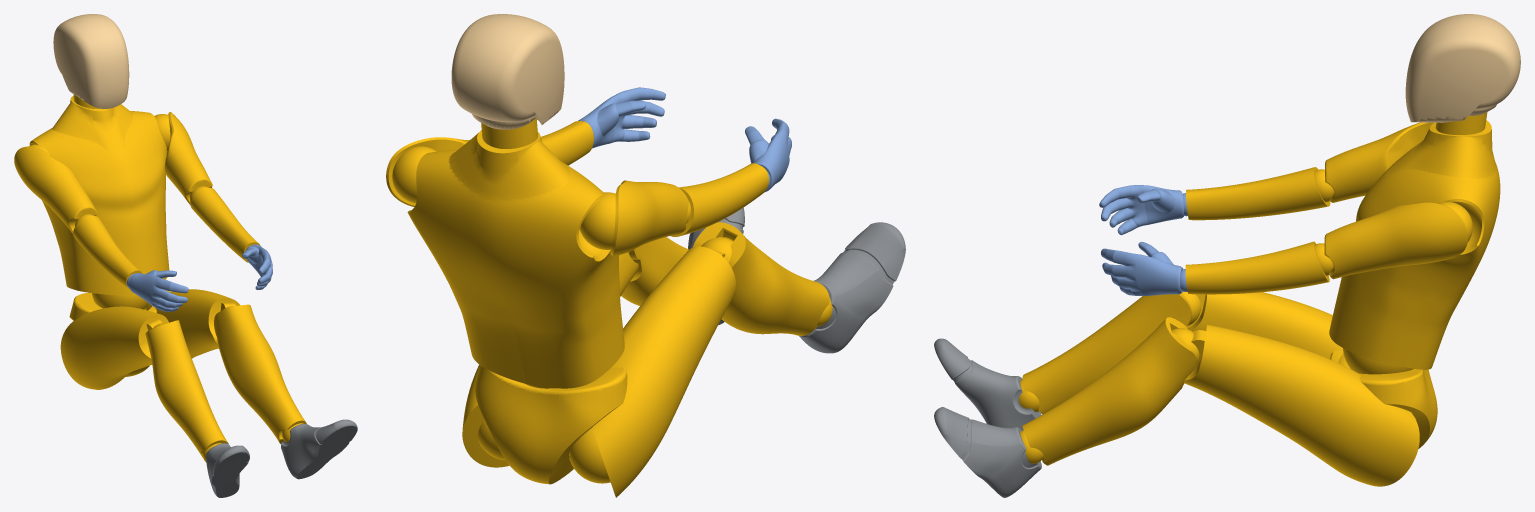
Rendered from Dummy Chassis.fbx.
3 views of the same model, side by side, from view 1: azimuth 30°, elevation 25°; view 2: azimuth 150°, elevation 25°; view 3: azimuth 270°, elevation 25° (orthographic). The views are drawn at different scales.
Parts seen in each view (by area): view 1: Material0.002, Material0.005, Material0.016, Material0.006, Material0.015, Material0, Material0.001, Material0.007, Material0.014, Material0.003, Material0.013, Material0.008 (+5 smaller); view 2: Material0.002, Material0.005, Material0.006, Material0.011, Material0.015, Material0.008, Material0, Material0.003, Material0.007, Material0.016, Material0.014, Material0.012 (+3 smaller); view 3: Material0.002, Material0.007, Material0.016, Material0.006, Material0.014, Material0.015, Material0.005, Material0.013, Material0.001, Material0.003, Material0, Material0.008 (+5 smaller).
Part boxes in pixels (bbox=[...]): Material0.002: bbox=[29, 94, 169, 309]; Material0.005: bbox=[60, 306, 168, 389]; Material0.016: bbox=[214, 304, 306, 443]; Material0.006: bbox=[53, 14, 129, 108]; Material0.015: bbox=[145, 320, 228, 462]; Material0: bbox=[14, 144, 97, 233]; Material0.001: bbox=[281, 419, 357, 479]; Material0.007: bbox=[145, 289, 240, 358]; Material0.014: bbox=[154, 112, 212, 204]; Material0.003: bbox=[73, 216, 142, 289]; Material0.013: bbox=[190, 187, 260, 262]; Material0.008: bbox=[206, 443, 249, 497]; Material0.002: bbox=[407, 118, 624, 388]; Material0.005: bbox=[569, 237, 735, 497]; Material0.006: bbox=[451, 14, 564, 129]; Material0.011: bbox=[475, 365, 627, 484]; Material0.015: bbox=[693, 222, 832, 335]; Material0.008: bbox=[799, 222, 905, 353]; Material0: bbox=[579, 180, 690, 256]; Material0.003: bbox=[671, 163, 769, 236]; Material0.007: bbox=[462, 252, 638, 467]; Material0.016: bbox=[621, 237, 688, 305]; Material0.014: bbox=[386, 137, 469, 206]; Material0.012: bbox=[578, 91, 645, 148]; Material0.002: bbox=[1329, 112, 1500, 374]; Material0.007: bbox=[1171, 324, 1419, 486]; Material0.016: bbox=[1020, 317, 1196, 465]; Material0.006: bbox=[1405, 14, 1520, 122]; Material0.014: bbox=[1315, 201, 1472, 279]; Material0.015: bbox=[1019, 293, 1191, 414]; Material0.005: bbox=[1182, 292, 1342, 358]; Material0.013: bbox=[1185, 241, 1329, 294]; Material0.001: bbox=[934, 407, 1041, 497]; Material0.003: bbox=[1186, 167, 1330, 220]; Material0: bbox=[1315, 122, 1433, 202]; Material0.008: bbox=[934, 338, 1041, 430].
Bounding box in the file's own units: 48.64 × 98.13 × 116.
